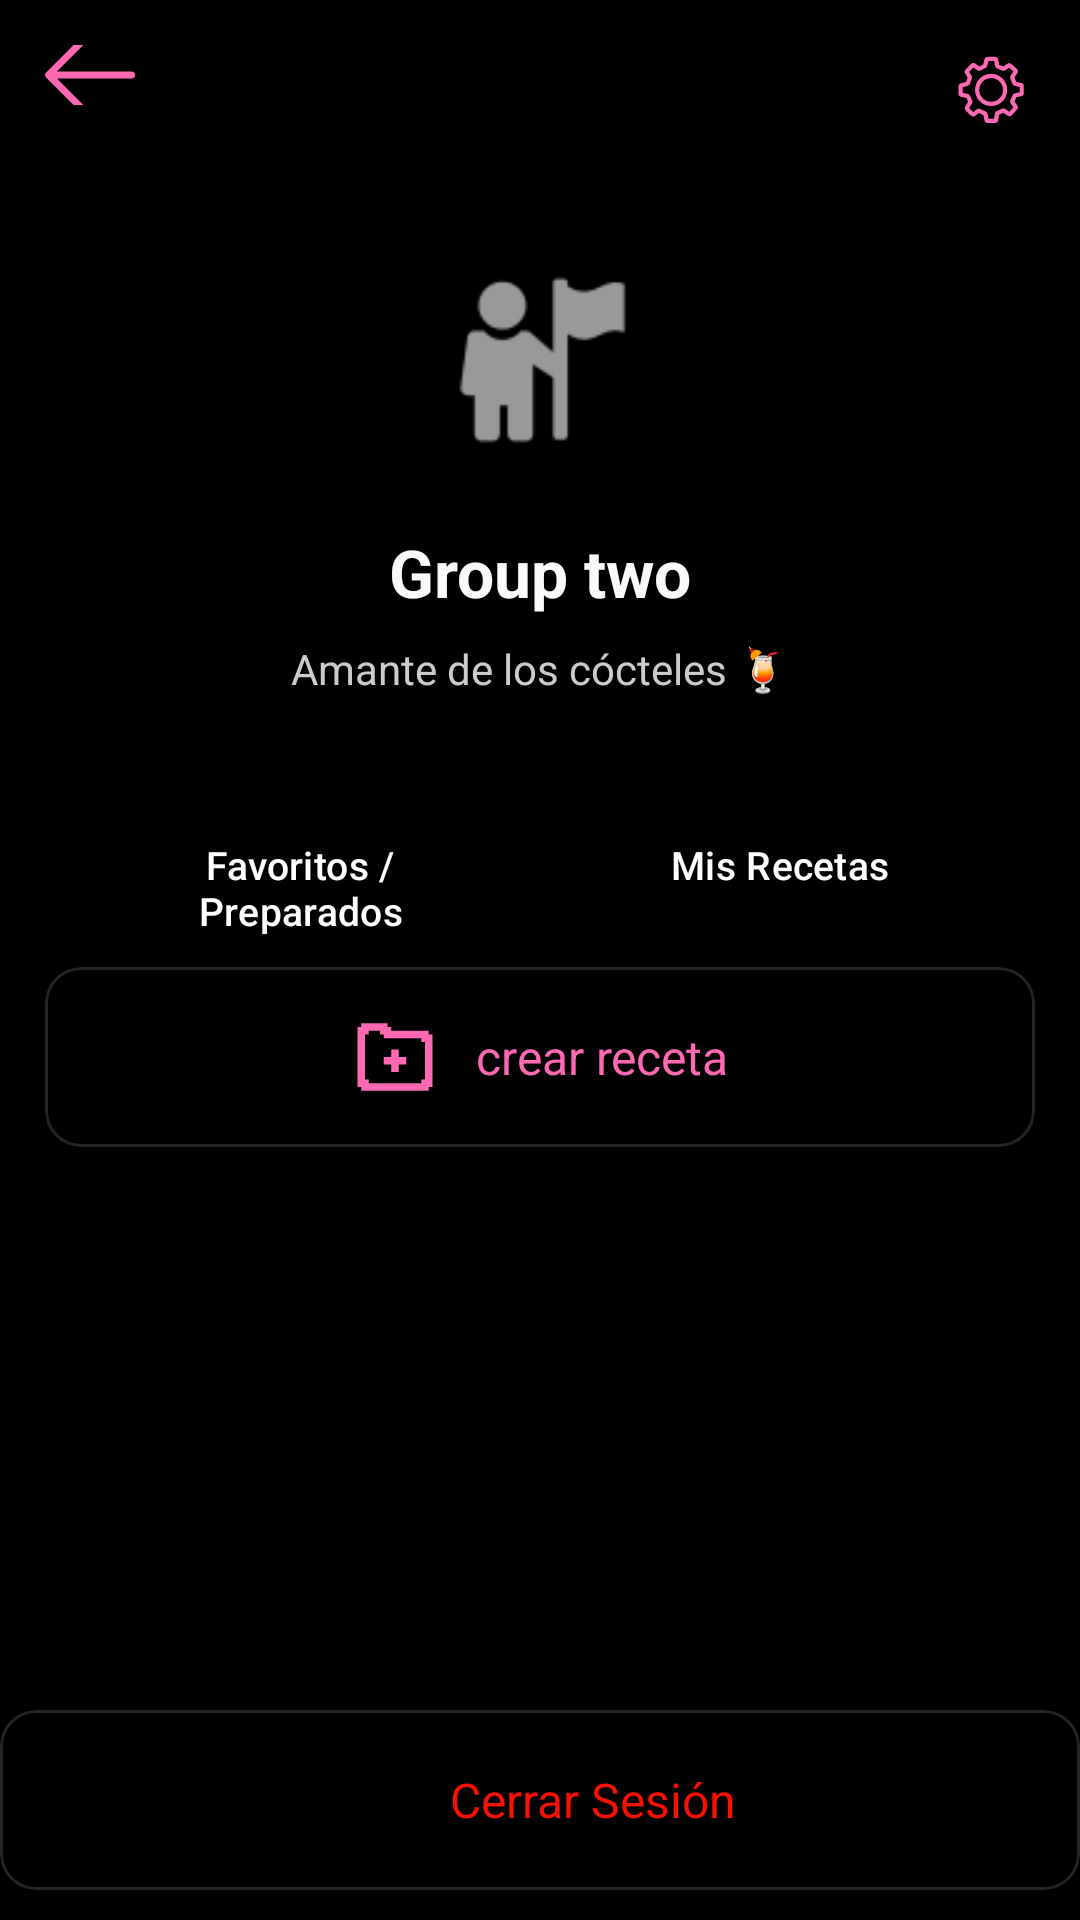

Where icons sit on this 1080 x 1920 app screen, as (x1, y1, x2, y2):
configuracion: (958, 56, 1024, 123)
flecha atras: (45, 45, 135, 105)
Foto de perfil: (459, 277, 626, 443)
